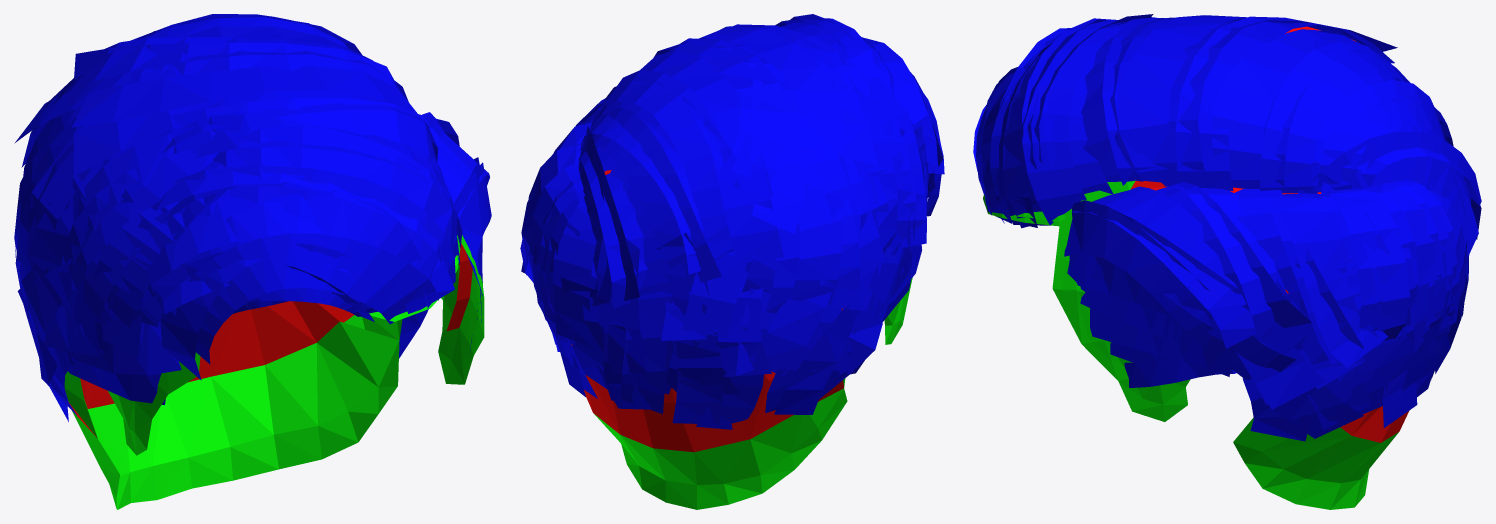
Rendered from hair_002.obj.
3 renders of one model, left to right at view 1: azimuth 30°, elevation 25°; view 2: azimuth 150°, elevation 25°; view 3: azimuth 270°, elevation 25°, orthographic. The views are drawn at different scales.
Bounding box in the file's own units: 18.61 × 20.96 × 21.18.
